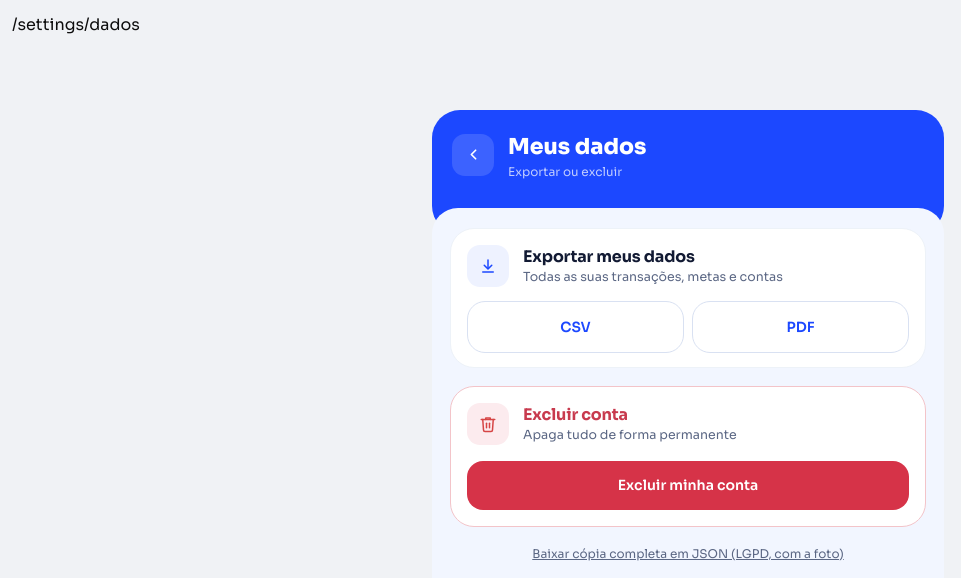
Meus dados — exportar › erro ao exportar avisa; limite de exportações (429) explica o prazo
The image size is (961, 578).
Click the button "CSV": (576, 327) [467,301,684,353]
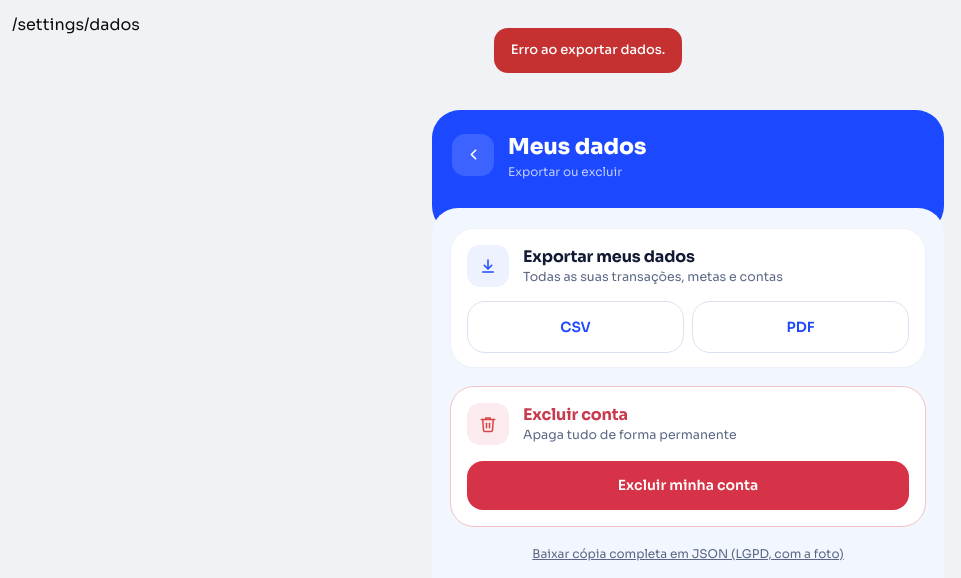
Expected: the message reads "Erro ao exportar dados.", [511,41,665,58]
Click the button "CSV": (576, 327) [467,301,684,353]
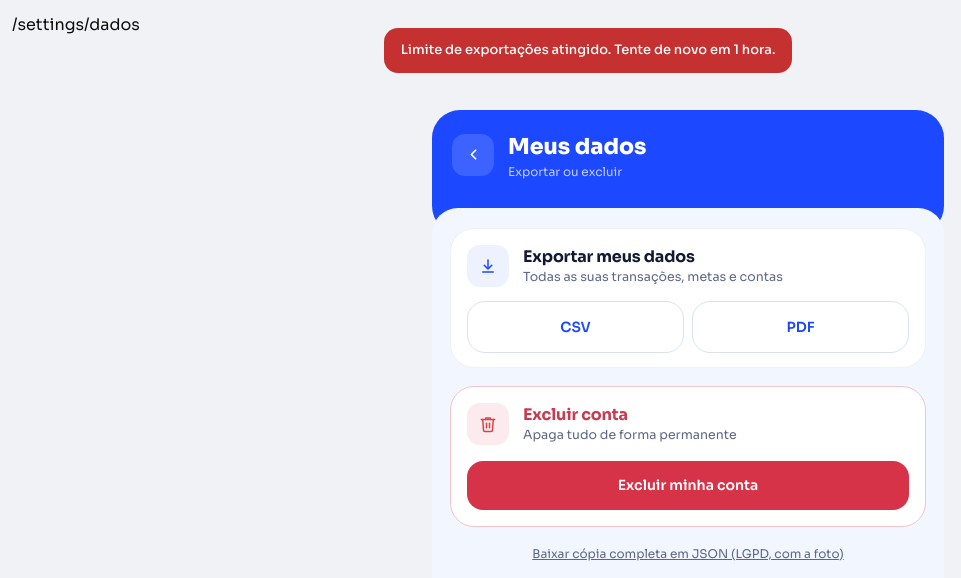
Expected: the message shows "Limite de exportações atingido", [401,41,775,58]
